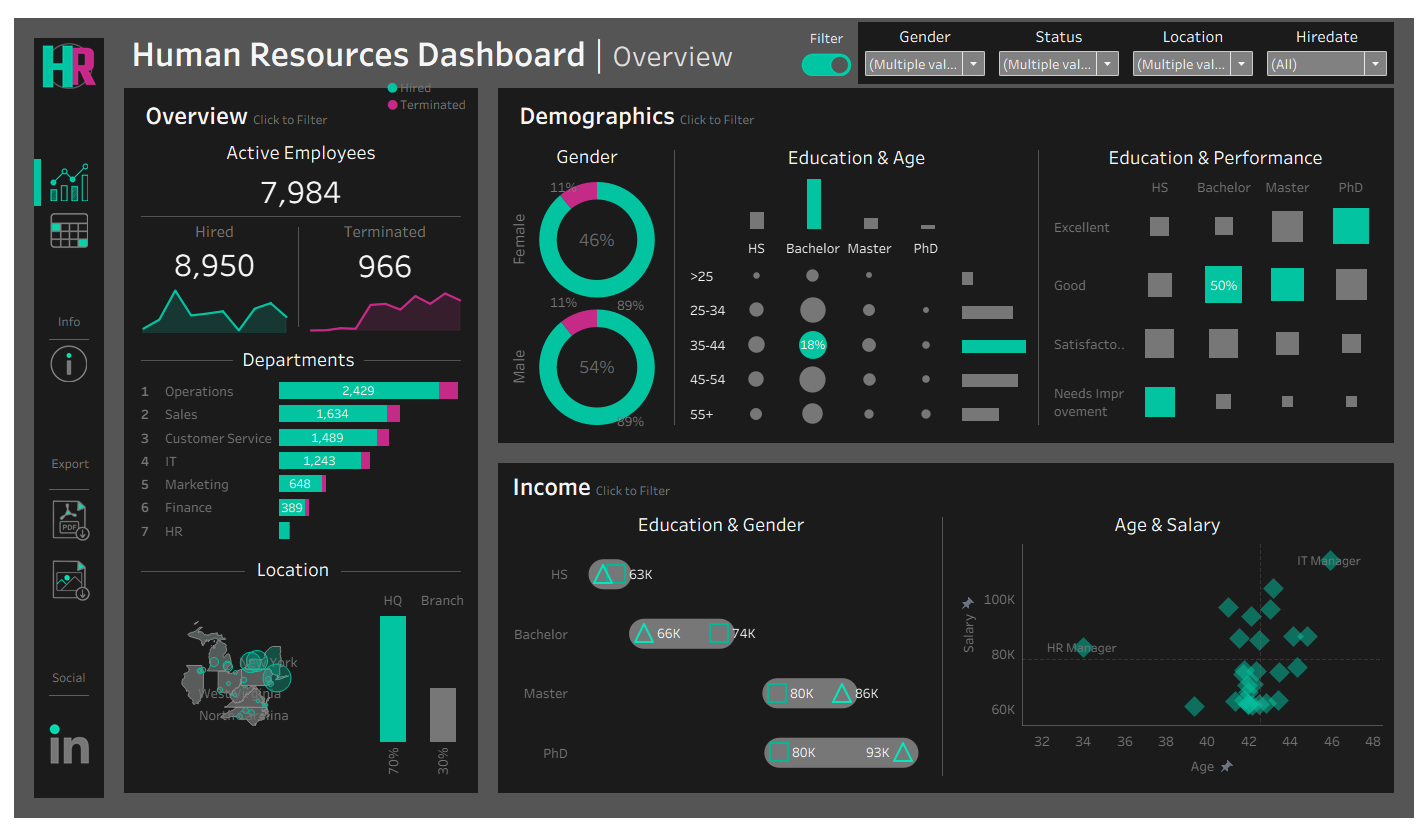

This screenshot's page, from the dashboard's own definition file:
{"tool":"tableau","page":{"name":"HR Summary ","canvas":[1400,800],"ordinal":1},"visuals":[{"type":"blank","box":[91,0,1309,266]},{"type":"text","box":[110,0,1205,70]},{"type":"blank","box":[1315,0,65,70]},{"type":"filter","title":"Gender vs Education","param":"[federated.0ifeorq1vb7msb108u6bx00xnawr].[none:Gender:nk]","box":[844,4,134,62]},{"type":"filter","title":"Gender vs Education","param":"[federated.0ifeorq1vb7msb108u6bx00xnawr].[none:Calculation_1668302225002680320:n","box":[978,4,134,62]},{"type":"filter","title":"Gender vs Education","param":"[federated.0ifeorq1vb7msb108u6bx00xnawr].[none:Calculation_1385982823021449221:n","box":[1112,4,134,62]},{"type":"filter","title":"Gender vs Education","param":"[federated.0ifeorq1vb7msb108u6bx00xnawr].[yr:Hiredate:ok]","box":[1246,4,134,62]},{"type":"text","box":[781,5,63,30]},{"type":"image","param":"Image/Logo.png","box":[20,20,70,55]},{"type":"dashboard-object","box":[787,28,50,38]},{"type":"text","box":[370,61,88,34]},{"type":"blank","box":[20,75,70,60]},{"type":"text","box":[117,77,340,40]},{"type":"text","box":[491,77,882,40]},{"type":"text","box":[117,117,340,33]},{"type":"text","box":[491,122,164,32]},{"type":"blank","box":[660,122,1,295]},{"type":"text","box":[666,122,353,33]},{"type":"blank","box":[1024,122,1,295]},{"type":"text","box":[1030,122,343,33]},{"type":"blank","box":[20,141,7,47]},{"type":"dashboard-object","box":[30,145,50,38]},{"type":"worksheet","title":"BAN Active ","mark":"Text","box":[117,150,340,48]},{"type":"worksheet","title":"Gender","mark":"Pie","rows":["Gender"],"cols":["Calculation_1385982823025508359","Calculation_1385982823025508359"],"box":[491,154,164,263]},{"type":"worksheet","title":"Education Level","mark":"Bar","rows":["Calculation_1385982823017484288"],"cols":["Education Level"],"box":[666,155,353,61]},{"type":"worksheet","title":"Education vs Performance","mark":"Square","rows":["Performance Rating"],"cols":["Education Level"],"box":[1030,155,343,262]},{"type":"blank","box":[30,183,50,10]},{"type":"dashboard-object","box":[30,193,50,38]},{"type":"blank","box":[117,198,340,1]},{"type":"text","box":[117,199,167,29]},{"type":"blank","box":[284,199,1,120]},{"type":"text","box":[285,199,171.9,29]},{"type":"worksheet","title":"Age vs Education","mark":"Circle","rows":["Calculation_1385982823027527689"],"cols":["Education Level"],"box":[666,216,278,201]},{"type":"worksheet","title":"Age Groups","mark":"Bar","rows":["Calculation_1385982823027527689"],"cols":["Calculation_1385982823017484288"],"box":[944,216,75,201]},{"type":"worksheet","title":"BAN Hired","mark":"Text","box":[117,228,167,37]},{"type":"worksheet","title":"BAN Terminated","mark":"Text","box":[285,228,171.9,40]},{"type":"blank","box":[30,231,50,60]},{"type":"worksheet","title":"Hired by Year","mark":"Line","rows":["Calculation_1385982823017484288","Calculation_1385982823017484288"],"cols":["Hiredate"],"box":[117,265,167,54]},{"type":"text","box":[91,266,1309,248]},{"type":"worksheet","title":"Terminated by Year","mark":"Line","rows":["Calculation_1385982823017537537","Calculation_1385982823017537537"],"cols":["Termdate"],"box":[285,268,171.9,51]},{"type":"text","box":[30,291,50,25]},{"type":"blank","box":[30,316,50,11]},{"type":"blank","box":[127,324,92,33]},{"type":"text","box":[219,324,131,33]},{"type":"blank","box":[350,324,97,33]},{"type":"dashboard-object","box":[30,327,50,37]},{"type":"worksheet","title":"Departments","mark":"Bar","rows":["Calculation_1385982823021080580","Department"],"cols":["Calculation_1385982823017484288"],"box":[117,357,340,171]},{"type":"blank","box":[30,364,50,60]},{"type":"text","box":[30,424,50,42]},{"type":"text","box":[491,452,882,32]},{"type":"blank","box":[30,466,50,11]},{"type":"dashboard-object","box":[30,477,50,50]},{"type":"text","box":[491,489,432.5,33]},{"type":"blank","box":[928.5,489,1,279]},{"type":"text","box":[934.5,489,438.5,33]},{"type":"blank","box":[91,514,1309,286]},{"type":"worksheet","title":"Gender vs Education","mark":"Square","rows":["Education Level"],"cols":["Salary","Salary"],"box":[491,522,432.5,246]},{"type":"worksheet","title":"Age vs Salary","mark":"Shape","rows":["Salary"],"cols":["Calculation_1385982823027191816"],"box":[934.5,522,438.5,246]},{"type":"blank","box":[30,527,50,10]},{"type":"blank","box":[127,533,104,35]},{"type":"text","box":[231,533,96,35]},{"type":"blank","box":[327,533,120,35]},{"type":"dashboard-object","box":[30,537,50,50]},{"type":"worksheet","title":"Map State","mark":"Automatic","box":[117,568,233,200]},{"type":"worksheet","title":"Location","mark":"Bar","rows":["Calculation_1385982823017484288"],"cols":["Calculation_1385982823021449221","Calculation1"],"box":[350,568,107,200]},{"type":"blank","box":[30,587,50,60]},{"type":"text","box":[30,647,50,25]},{"type":"blank","box":[30,672,50,11]},{"type":"image","param":"Image/contact-linkedin.png","box":[30,683,50,87]}]}

Visuals, with their boxes in screenshot pixels (x1, y1, x2, y2), scaled from the page's 1400x800 canvas onto the 1427x826 screenshot:
blank: [x1=93, y1=0, x2=1426, y2=275]
text: [x1=112, y1=0, x2=1340, y2=72]
blank: [x1=1340, y1=0, x2=1407, y2=72]
"Gender vs Education" filter: [x1=860, y1=4, x2=997, y2=68]
"Gender vs Education" filter: [x1=997, y1=4, x2=1133, y2=68]
"Gender vs Education" filter: [x1=1133, y1=4, x2=1270, y2=68]
"Gender vs Education" filter: [x1=1270, y1=4, x2=1407, y2=68]
text: [x1=796, y1=5, x2=860, y2=36]
image: [x1=20, y1=21, x2=92, y2=77]
dashboard-object: [x1=802, y1=29, x2=853, y2=68]
text: [x1=377, y1=63, x2=467, y2=98]
blank: [x1=20, y1=77, x2=92, y2=139]
text: [x1=119, y1=80, x2=466, y2=121]
text: [x1=500, y1=80, x2=1399, y2=121]
text: [x1=119, y1=121, x2=466, y2=155]
text: [x1=500, y1=126, x2=668, y2=159]
blank: [x1=673, y1=126, x2=674, y2=431]
text: [x1=679, y1=126, x2=1039, y2=160]
blank: [x1=1044, y1=126, x2=1045, y2=431]
text: [x1=1050, y1=126, x2=1399, y2=160]
blank: [x1=20, y1=146, x2=28, y2=194]
dashboard-object: [x1=31, y1=150, x2=82, y2=189]
"BAN Active " worksheet (Text marks): [x1=119, y1=155, x2=466, y2=204]
"Gender" worksheet (Pie marks): [x1=500, y1=159, x2=668, y2=431]
"Education Level" worksheet (Bar marks): [x1=679, y1=160, x2=1039, y2=223]
"Education vs Performance" worksheet (Square marks): [x1=1050, y1=160, x2=1399, y2=431]
blank: [x1=31, y1=189, x2=82, y2=199]
dashboard-object: [x1=31, y1=199, x2=82, y2=239]
blank: [x1=119, y1=204, x2=466, y2=205]
text: [x1=119, y1=205, x2=289, y2=235]
blank: [x1=289, y1=205, x2=290, y2=329]
text: [x1=290, y1=205, x2=466, y2=235]
"Age vs Education" worksheet (Circle marks): [x1=679, y1=223, x2=962, y2=431]
"Age Groups" worksheet (Bar marks): [x1=962, y1=223, x2=1039, y2=431]
"BAN Hired" worksheet (Text marks): [x1=119, y1=235, x2=289, y2=274]
"BAN Terminated" worksheet (Text marks): [x1=290, y1=235, x2=466, y2=277]
blank: [x1=31, y1=239, x2=82, y2=300]
"Hired by Year" worksheet (Line marks): [x1=119, y1=274, x2=289, y2=329]
text: [x1=93, y1=275, x2=1426, y2=531]
"Terminated by Year" worksheet (Line marks): [x1=290, y1=277, x2=466, y2=329]
text: [x1=31, y1=300, x2=82, y2=326]
blank: [x1=31, y1=326, x2=82, y2=338]
blank: [x1=129, y1=335, x2=223, y2=369]
text: [x1=223, y1=335, x2=357, y2=369]
blank: [x1=357, y1=335, x2=456, y2=369]
dashboard-object: [x1=31, y1=338, x2=82, y2=376]
"Departments" worksheet (Bar marks): [x1=119, y1=369, x2=466, y2=545]
blank: [x1=31, y1=376, x2=82, y2=438]
text: [x1=31, y1=438, x2=82, y2=481]
text: [x1=500, y1=467, x2=1399, y2=500]
blank: [x1=31, y1=481, x2=82, y2=493]
dashboard-object: [x1=31, y1=493, x2=82, y2=544]
text: [x1=500, y1=505, x2=941, y2=539]
blank: [x1=946, y1=505, x2=947, y2=793]
text: [x1=953, y1=505, x2=1399, y2=539]
blank: [x1=93, y1=531, x2=1426, y2=825]
"Gender vs Education" worksheet (Square marks): [x1=500, y1=539, x2=941, y2=793]
"Age vs Salary" worksheet (Shape marks): [x1=953, y1=539, x2=1399, y2=793]
blank: [x1=31, y1=544, x2=82, y2=554]
blank: [x1=129, y1=550, x2=235, y2=586]
text: [x1=235, y1=550, x2=333, y2=586]
blank: [x1=333, y1=550, x2=456, y2=586]
dashboard-object: [x1=31, y1=554, x2=82, y2=606]
"Map State" worksheet: [x1=119, y1=586, x2=357, y2=793]
"Location" worksheet (Bar marks): [x1=357, y1=586, x2=466, y2=793]
blank: [x1=31, y1=606, x2=82, y2=668]
text: [x1=31, y1=668, x2=82, y2=694]
blank: [x1=31, y1=694, x2=82, y2=705]
image: [x1=31, y1=705, x2=82, y2=795]
